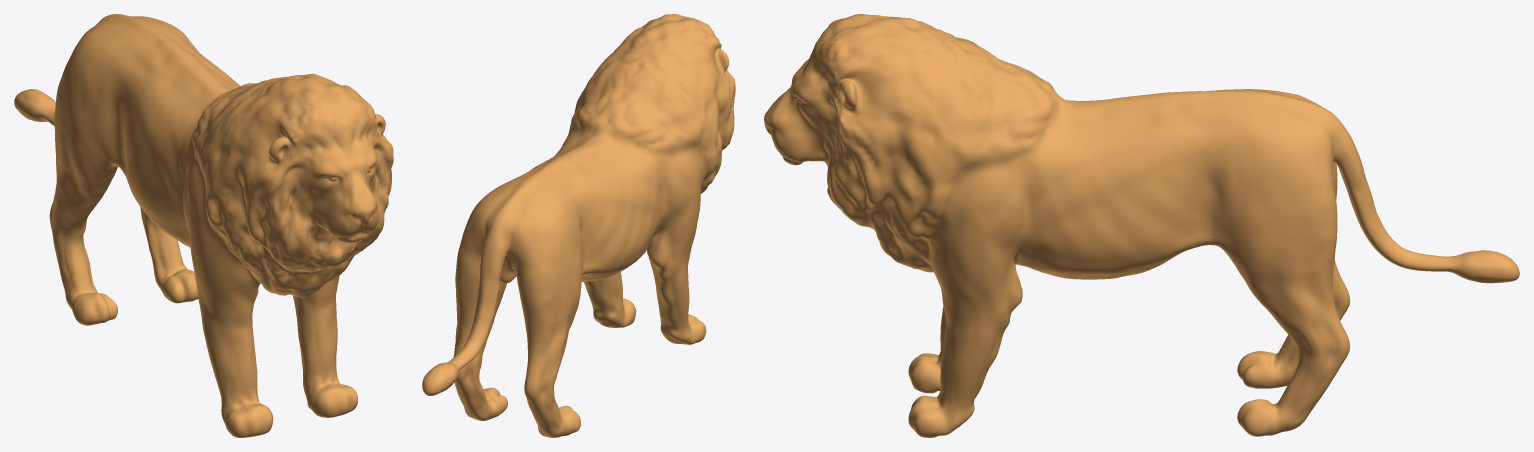
Rendered from Lion_mesh.fbx.
3 views of the same model, side by side, from view 1: azimuth 30°, elevation 25°; view 2: azimuth 150°, elevation 25°; view 3: azimuth 270°, elevation 25° (orthographic). The views are drawn at different scales.
Parts seen in each view (by area): view 1: Lion; view 2: Lion; view 3: Lion.
Part boxes in pixels (x1,y1,x2,y2): Lion: (14,14,393,437); Lion: (422,14,735,437); Lion: (764,14,1519,437).
Size of the model in its own units: 157 by 328 by 578.
